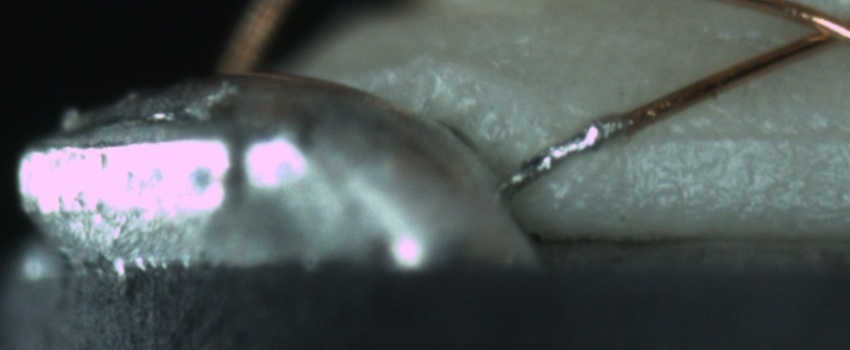CL: (781, 4, 850, 55)
DL: (631, 106, 849, 170)
TS: (506, 113, 627, 193)
TTCW: (501, 99, 659, 191)
